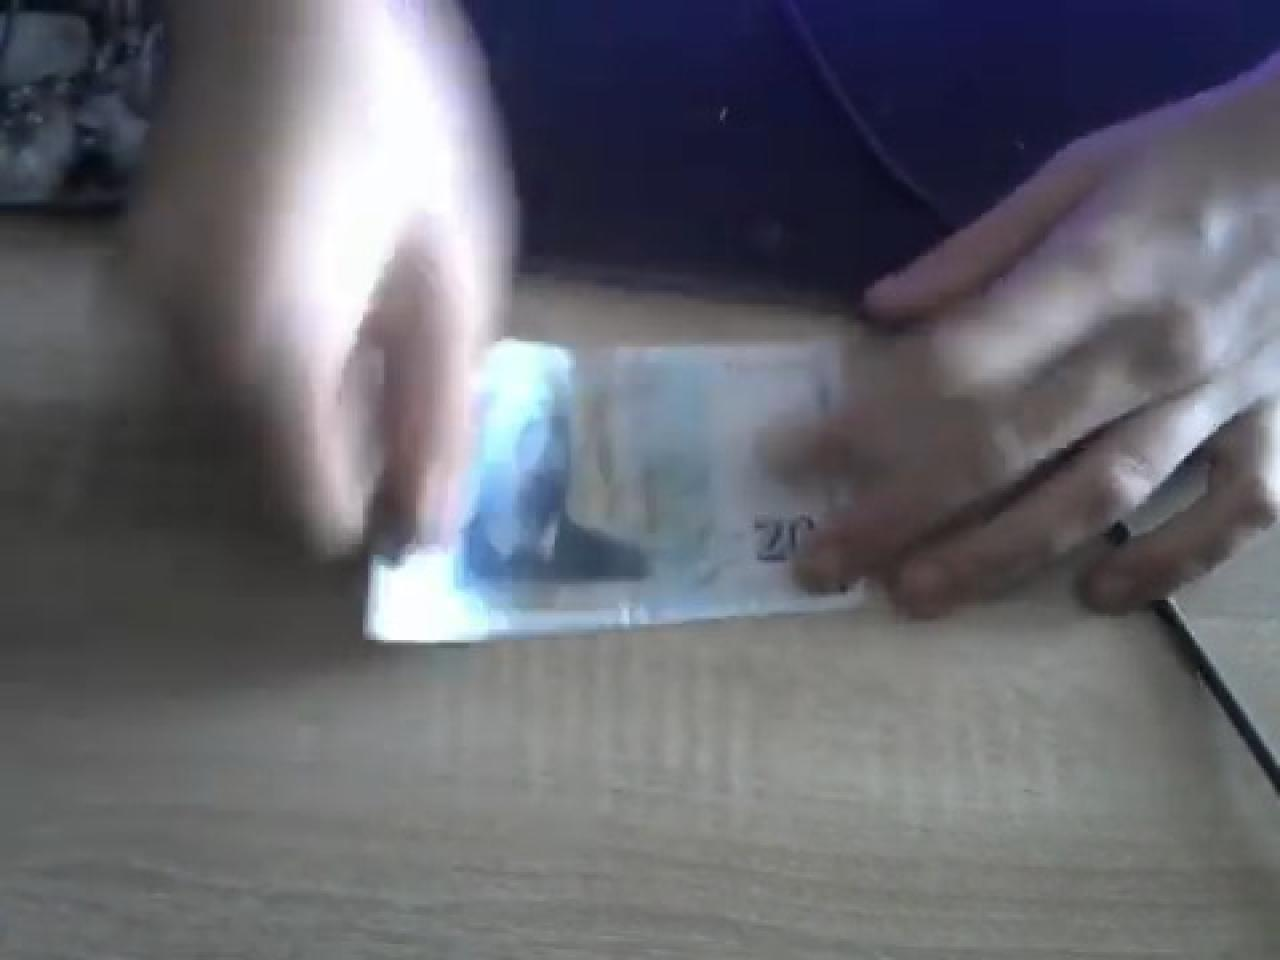20leva: (371, 336, 883, 648)
